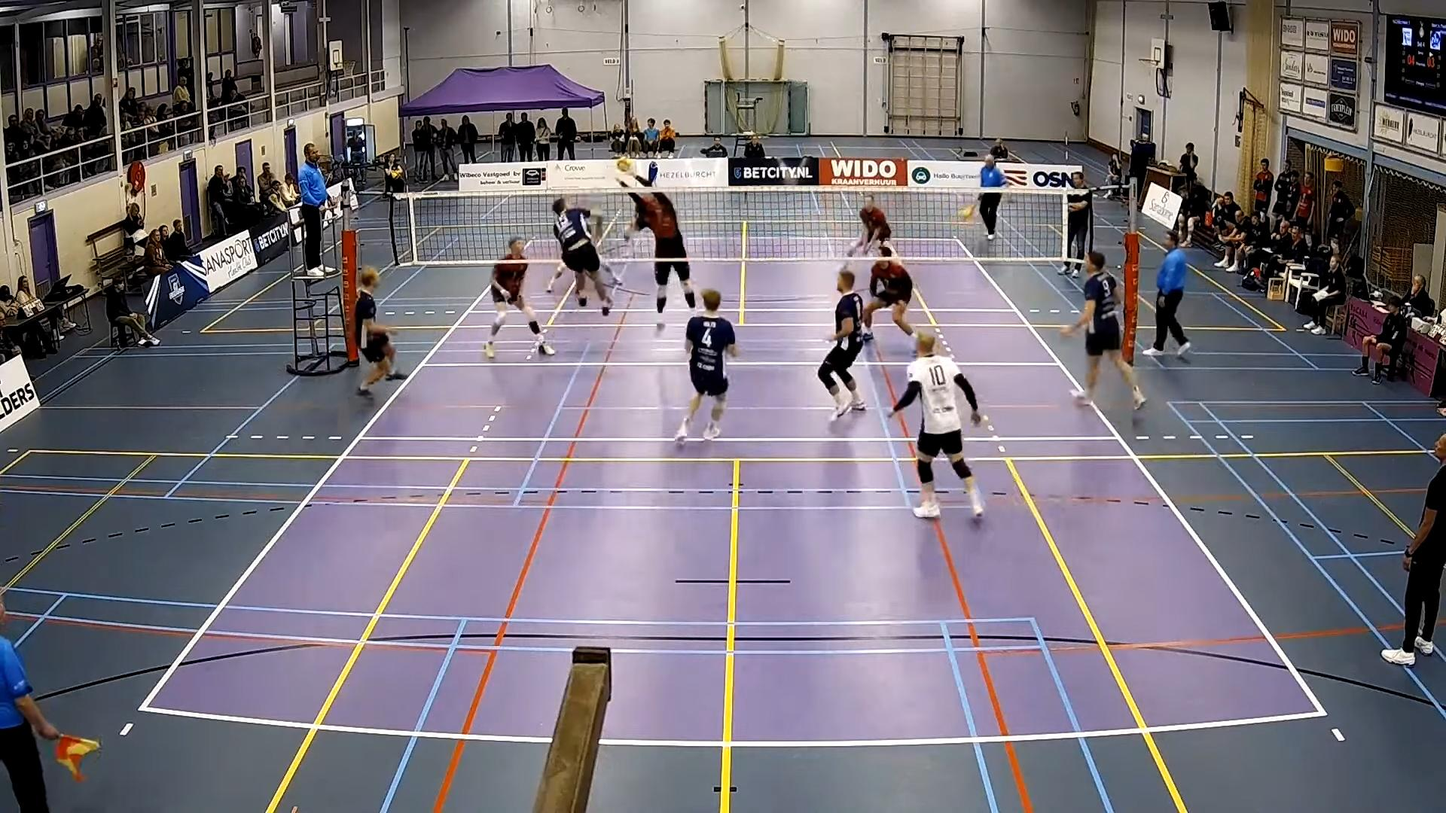attacco: (542, 185, 623, 314)
muro: (614, 161, 697, 329)
